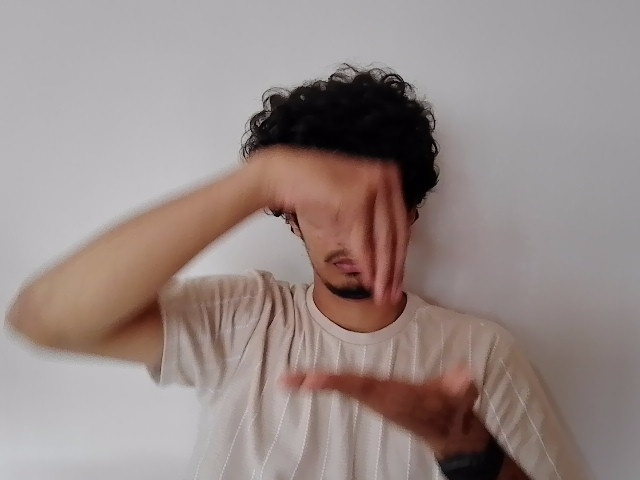learn: (269, 149, 479, 422)
